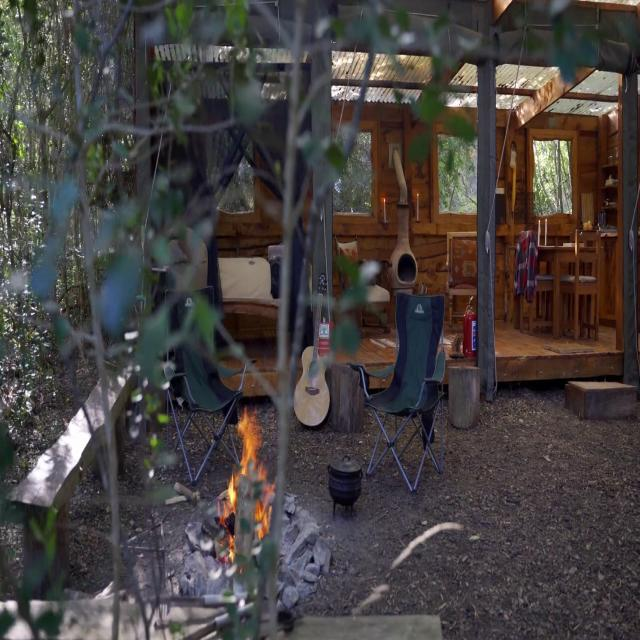Fire: (218, 399, 276, 560)
